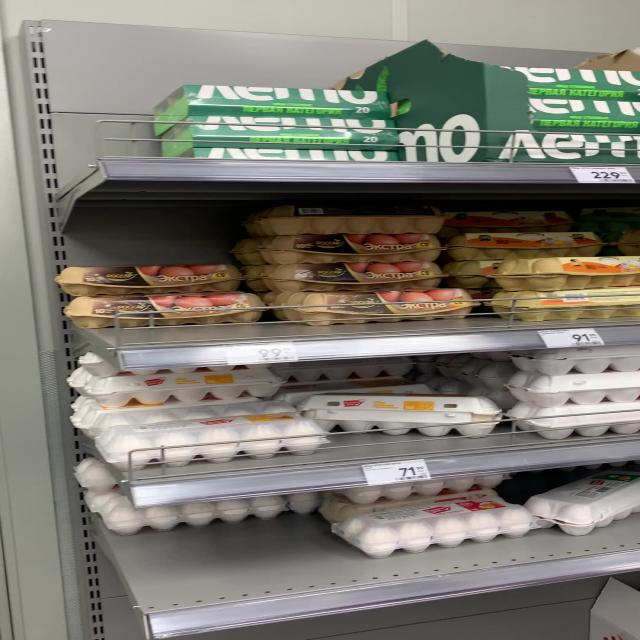egg box: (83, 399, 315, 470), (333, 498, 538, 560), (140, 80, 389, 115), (59, 291, 264, 330), (289, 285, 464, 328), (52, 260, 231, 291), (270, 257, 440, 289), (261, 232, 440, 260), (453, 227, 601, 258)
